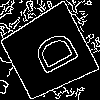D: (23, 27, 80, 82)
